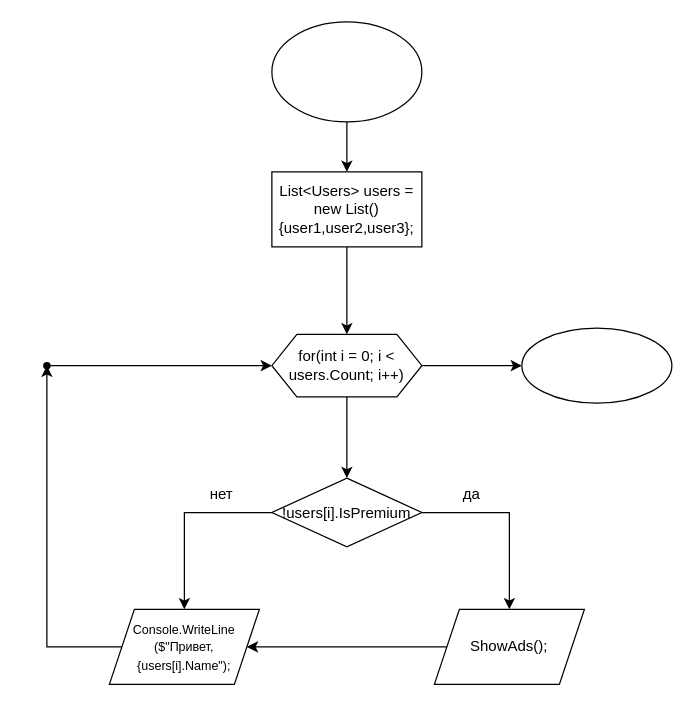
Image size: 694x706. Some labels were removed from this diagram. Here are the shapes that lost their labels. From the top down, the centre of each, then its label:
[346,71]: начало
[596,365]: конец
